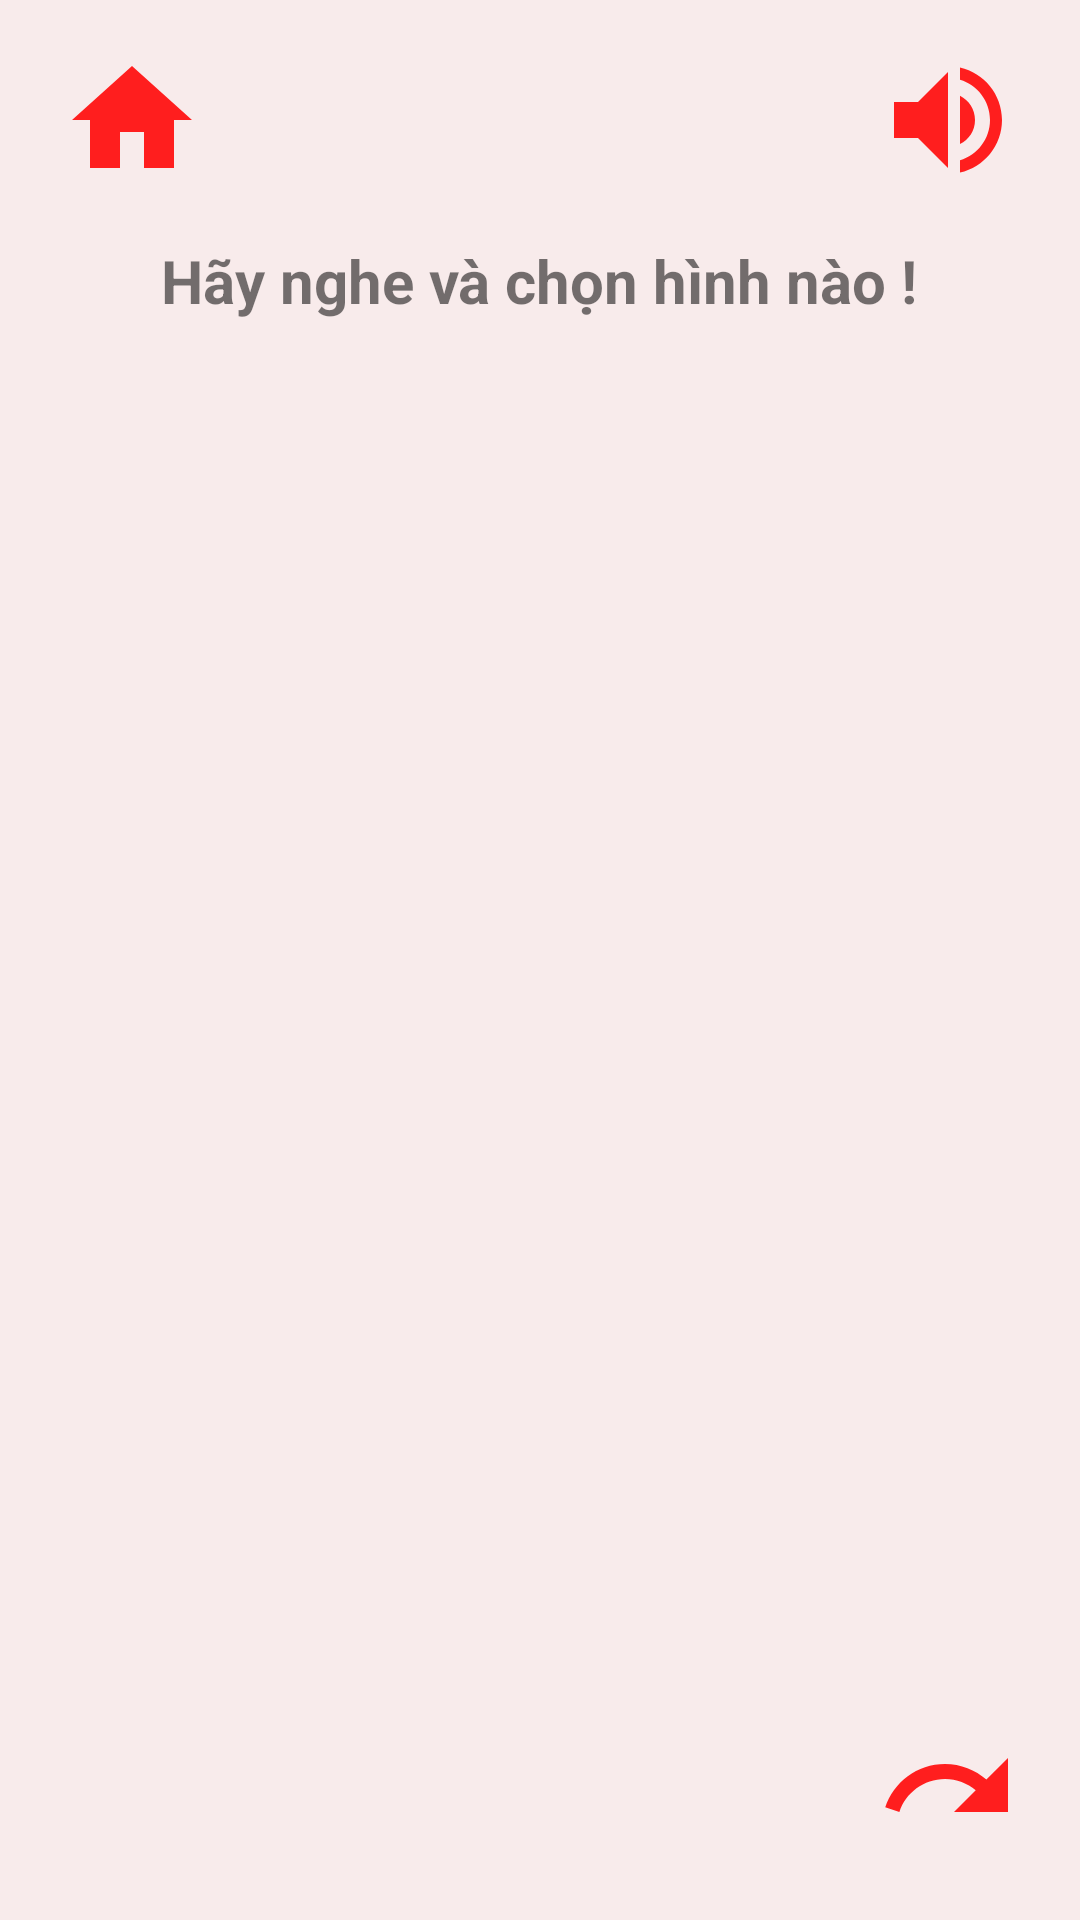

Point at icon controls on the screen. Image size 1080 x 1920, points as (x,y).
home: (132,117)
redo: (946,1785)
volume: (948,120)
